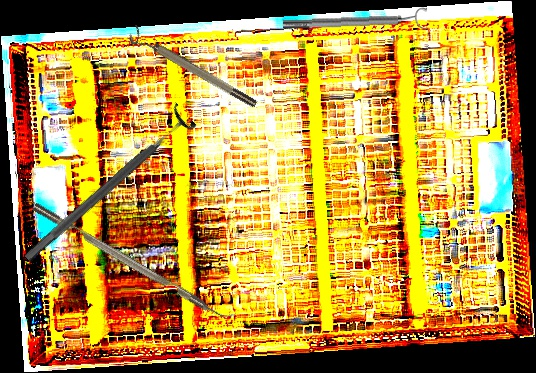Chopper: (32, 192, 238, 328)
Fixation Ring: (15, 101, 198, 271), (125, 24, 260, 116), (282, 6, 428, 36)
